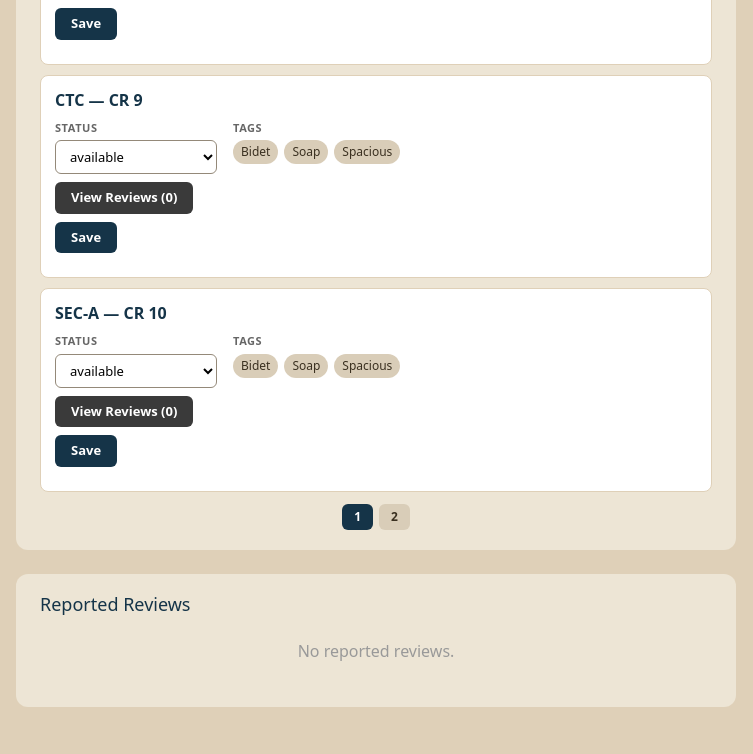
Test: CR Management — CR pagination › navigating to page 2 reveals CRs 11–15 and hides CRs 1–10
(page scrolled)
Click the button "2" at (394, 517), box [379, 504, 410, 530]
(page scrolled)
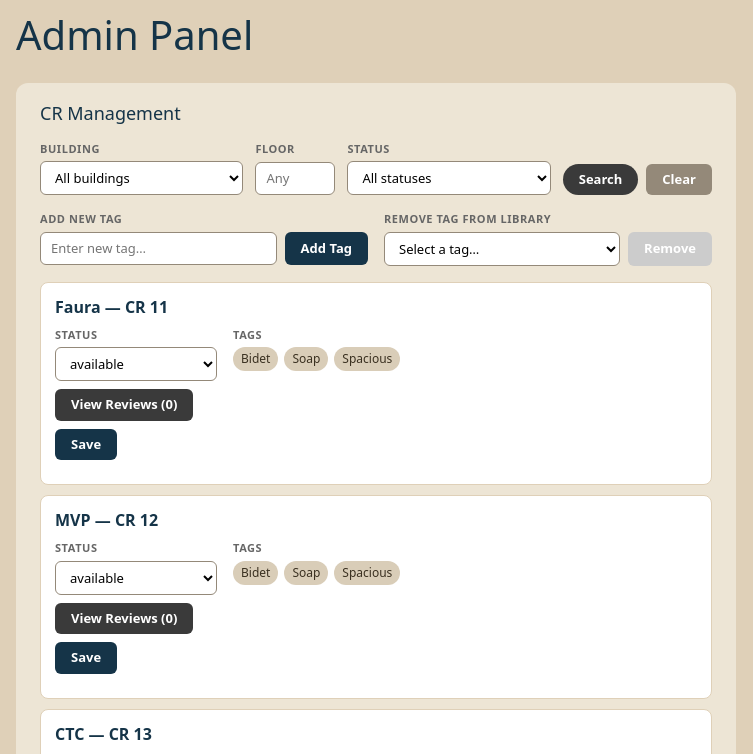
Expected: the text "Faura — CR 11" is shown, [55, 296, 168, 318]
